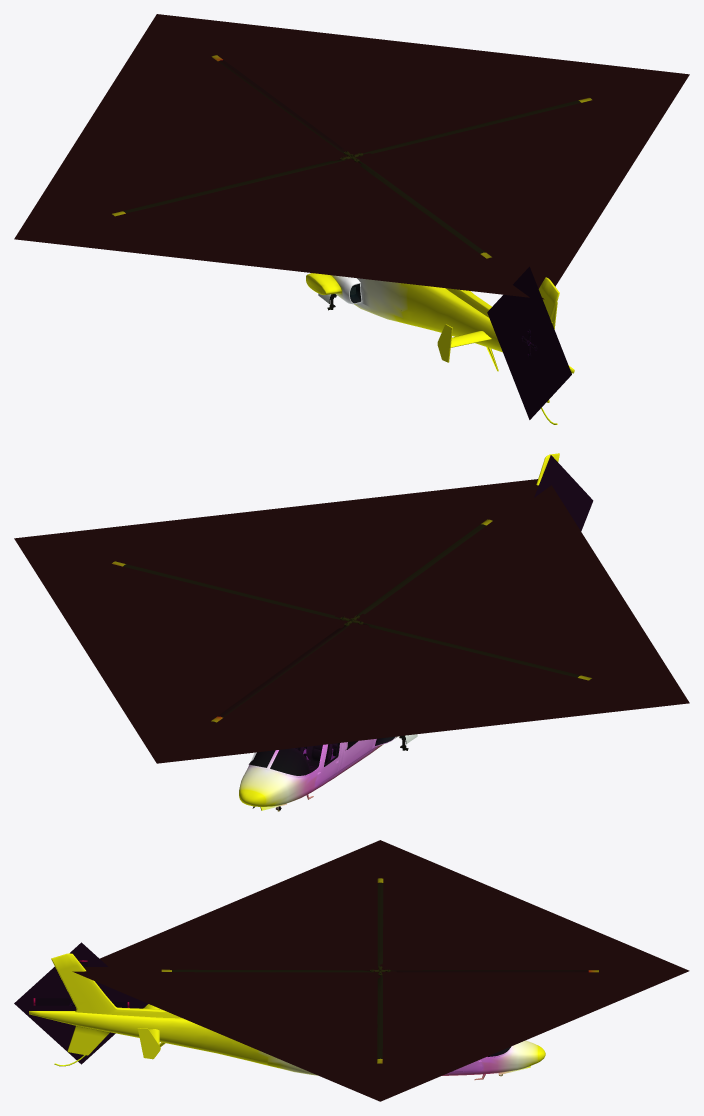
File: swift.glb
The picture shows the model from 3 angles, top to bottom: view 1: azimuth 30°, elevation 25°; view 2: azimuth 150°, elevation 25°; view 3: azimuth 270°, elevation 25°; orthographic projection. The views are drawn at different scales.
Parts seen in each view (by area): view 1: rotor_main_fast, rotor_rear_fast, tail, rotor_main_slow, bodyshell; view 2: rotor_main_fast, rotor_main_slow, bodyshell, rotor_rear_fast, chassis, windscreen, door_dside_r; view 3: rotor_main_fast, tail, rotor_rear_fast, rotor_main_slow, bodyshell, rotor_rear_slow.
Part boxes in pixels (x1,y1,x2,y2): rotor_main_fast: (14,14,689,299); rotor_rear_fast: (487,266,571,419); tail: (400,277,574,424); rotor_main_slow: (112,55,591,258); bodyshell: (306,273,407,324); rotor_main_fast: (14,479,689,763); rotor_main_slow: (112,519,591,722); bodyshell: (239,736,397,806); rotor_rear_fast: (534,455,593,531); chassis: (251,742,353,775); windscreen: (250,745,321,775); door_dside_r: (340,739,373,770); rotor_main_fast: (72,840,689,1101); tail: (29,953,267,1066); rotor_rear_fast: (14,942,147,1064); rotor_main_slow: (161,878,598,1063); bodyshell: (267,1040,545,1080); rotor_rear_slow: (33,960,129,1027).
Bounding box in the file's own units: 18.08 × 4.22 × 19.73.
13 materials, 13 textured.
